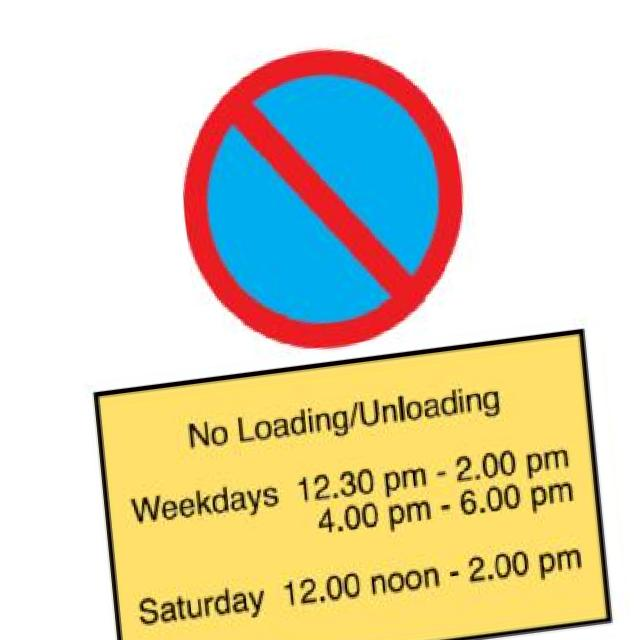forb_stopping: (183, 49, 466, 347)
